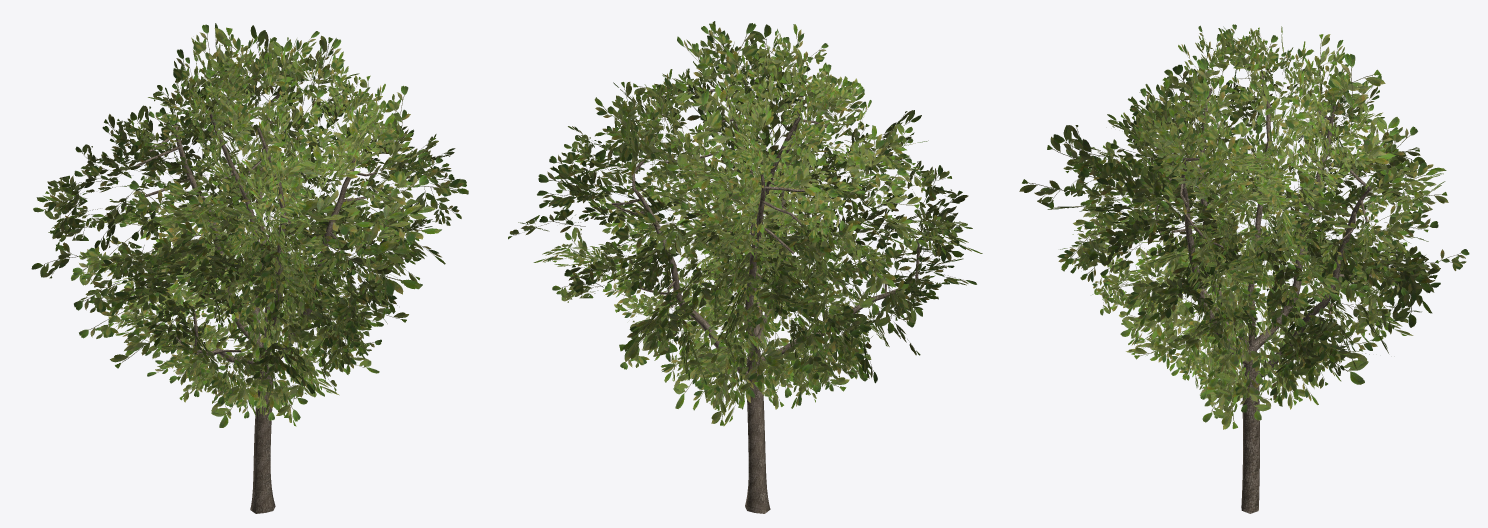
The model's file is tree_oak_v0_l0.glb.
The picture shows the model from 3 angles, left to right: view 1: azimuth 30°, elevation 25°; view 2: azimuth 150°, elevation 25°; view 3: azimuth 270°, elevation 25°; orthographic projection.
Parts seen in each view (by area): view 1: tree_oak_v0_l0; view 2: tree_oak_v0_l0; view 3: tree_oak_v0_l0.
Part boxes in pixels (bbox=[...]): tree_oak_v0_l0: bbox=[31, 23, 468, 513]; tree_oak_v0_l0: bbox=[508, 21, 982, 513]; tree_oak_v0_l0: bbox=[1019, 24, 1469, 513].
Size of the model in its own units: 11.32 by 12.73 by 10.96.
Materials: 2 (2 with a texture image).
